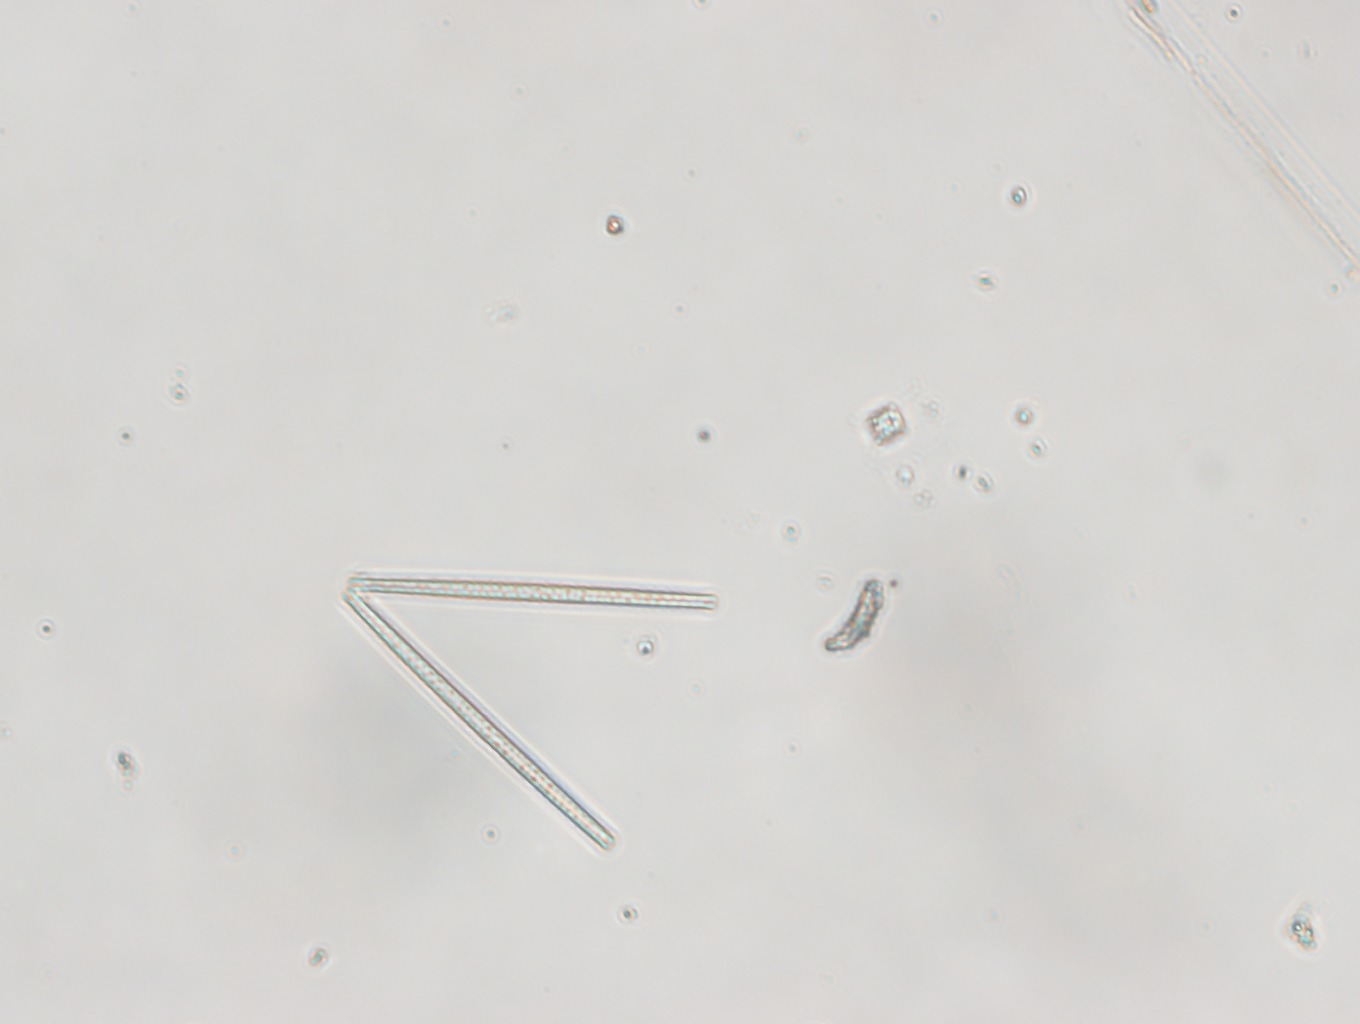thalassionema frauenfeldii: (337, 561, 733, 856)
